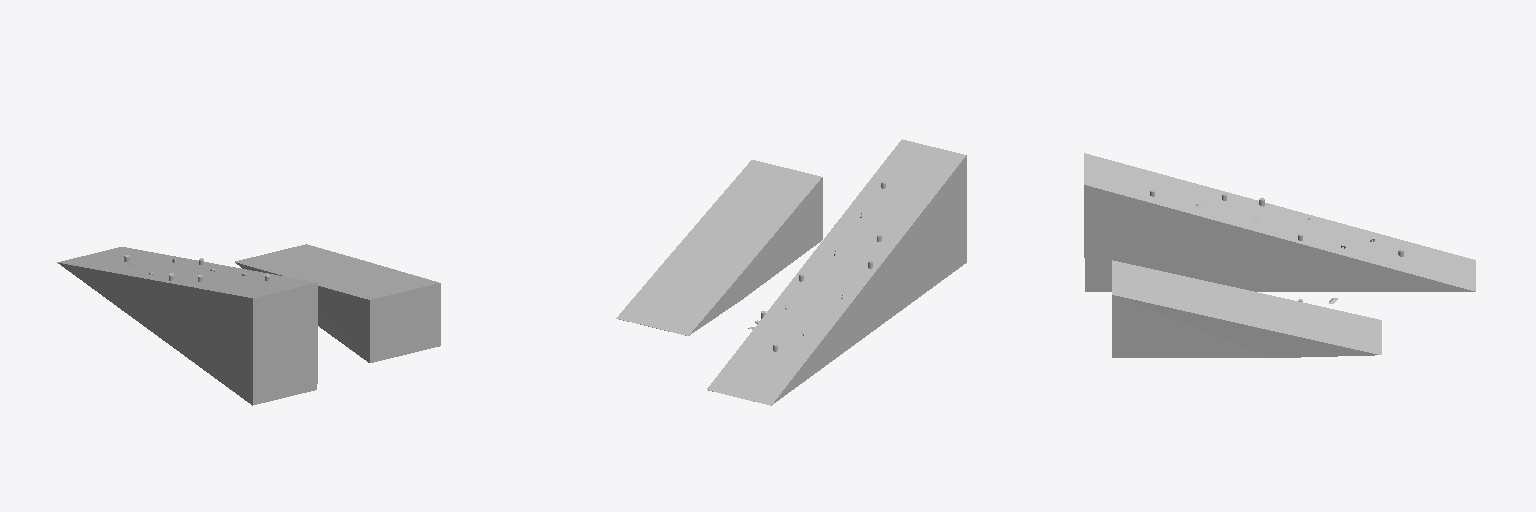
File: placeholdertrackpiece.obj
3 renders of one model, left to right at view 1: azimuth 30°, elevation 25°; view 2: azimuth 150°, elevation 25°; view 3: azimuth 270°, elevation 25°, orthographic.
Parts seen in each view (by area): view 1: Cylinder.003_Cylinder.004, Cylinder.004_Cylinder.005; view 2: Cylinder.003_Cylinder.004, Cylinder.004_Cylinder.005; view 3: Cylinder.003_Cylinder.004, Cylinder.004_Cylinder.005.
Boxes of the visible parts, x1=… form: Cylinder.003_Cylinder.004: x1=57, y1=247, x2=317, y2=405; Cylinder.004_Cylinder.005: x1=235, y1=244, x2=440, y2=362; Cylinder.003_Cylinder.004: x1=707, y1=139, x2=966, y2=405; Cylinder.004_Cylinder.005: x1=616, y1=160, x2=822, y2=335; Cylinder.003_Cylinder.004: x1=1084, y1=153, x2=1475, y2=291; Cylinder.004_Cylinder.005: x1=1112, y1=260, x2=1381, y2=357.
Bounding box in the file's own units: 89.41 × 45.47 × 150.